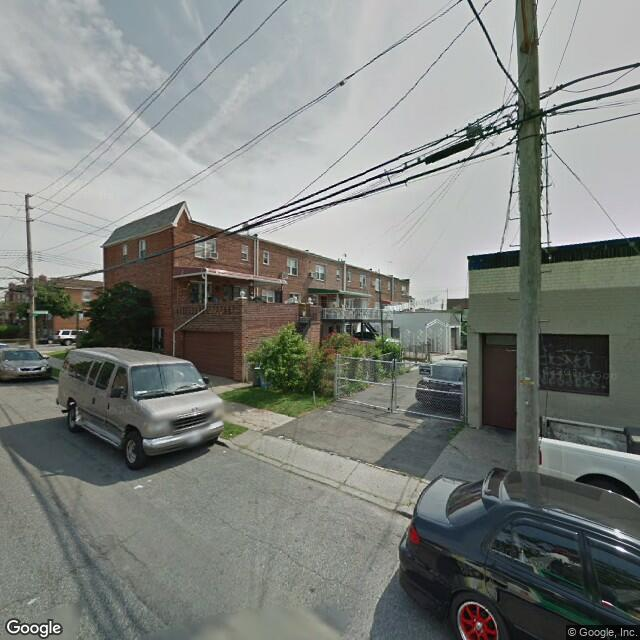litter: (132, 478, 154, 491), (24, 597, 43, 605), (54, 467, 65, 477), (29, 491, 38, 498), (220, 447, 227, 456), (324, 408, 334, 414), (229, 432, 233, 437)
